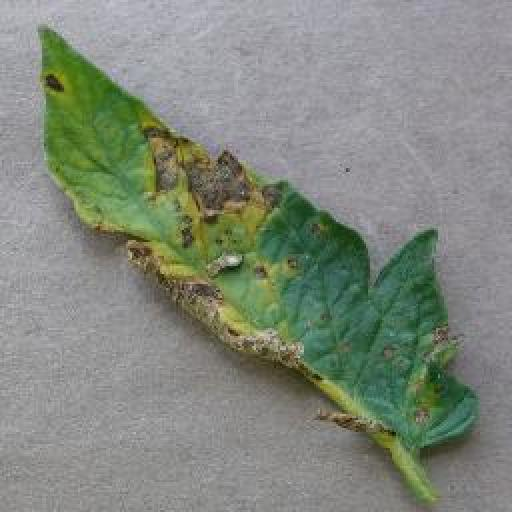Early Blight: (34, 22, 481, 450)
